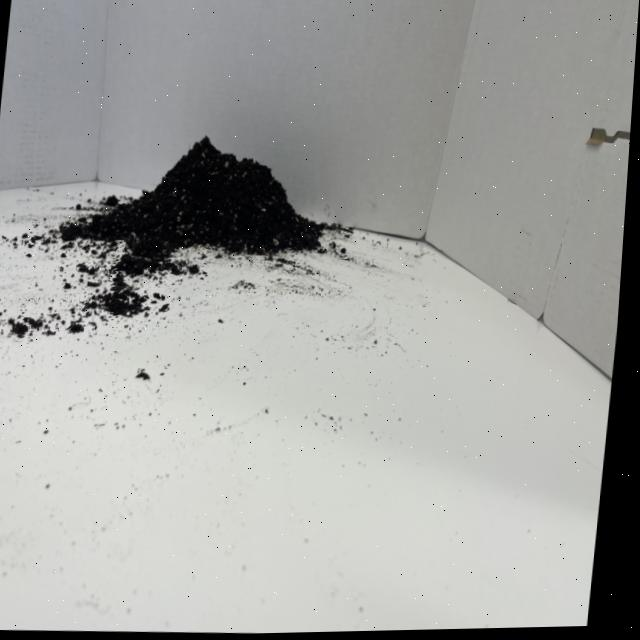soil: (53, 124, 338, 278)
